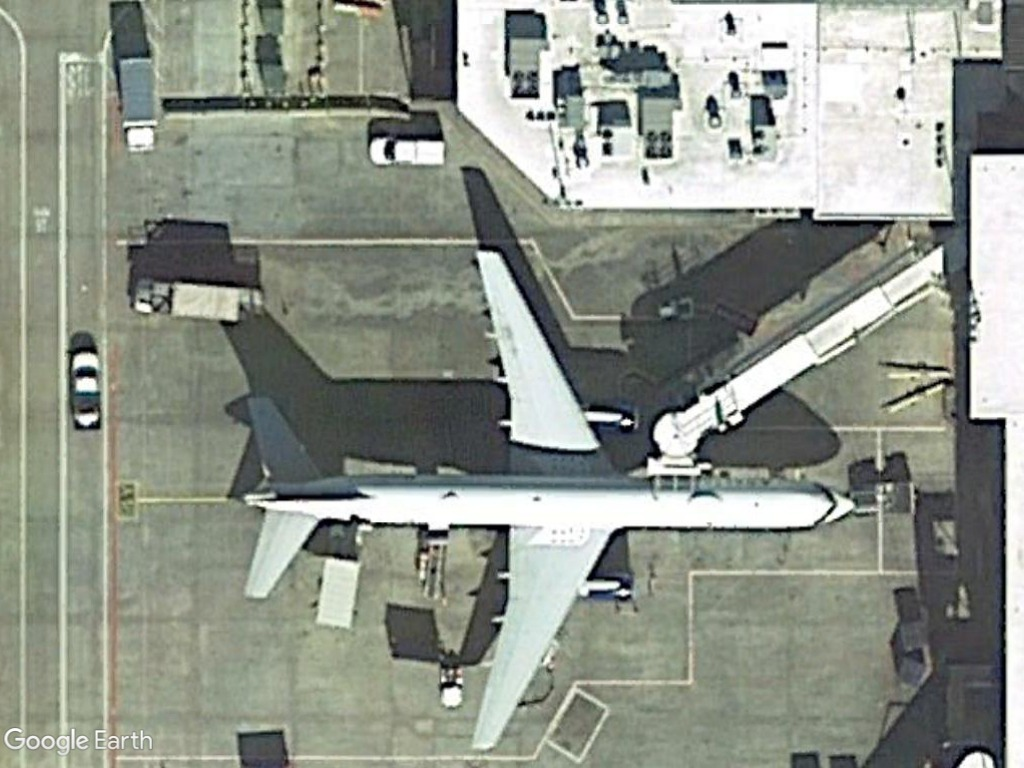airliner: (231, 242, 858, 755)
truck: (115, 48, 165, 158)
van: (366, 133, 453, 172)
